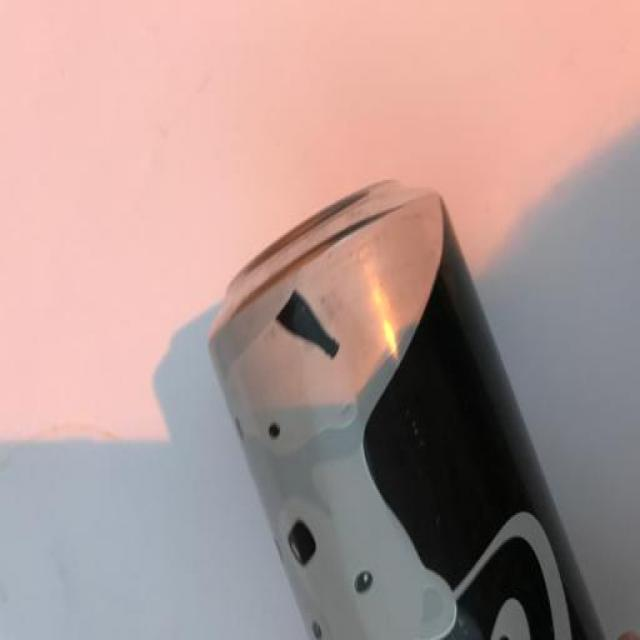metel: (190, 159, 634, 640)
